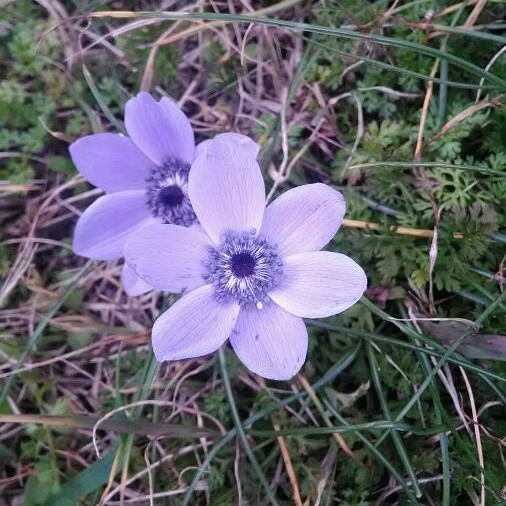obstacle: (67, 98, 375, 392)
